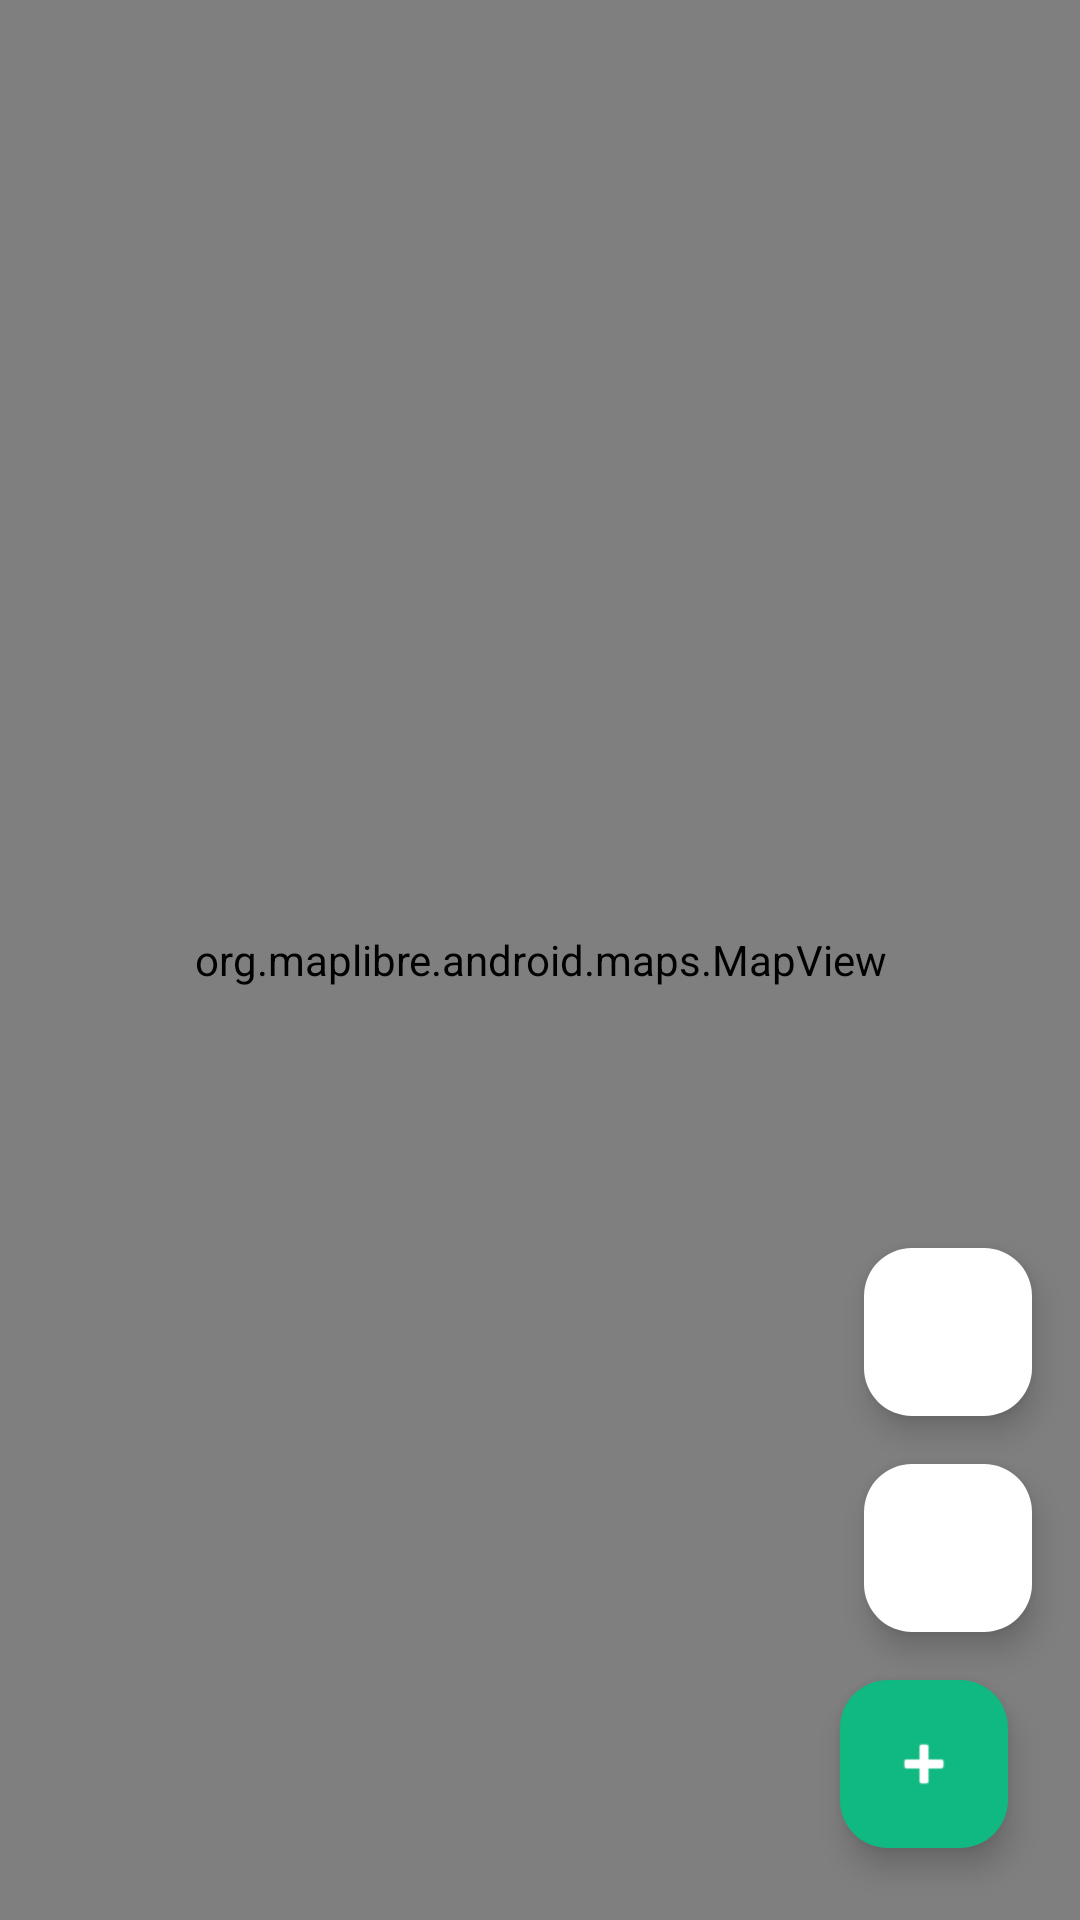

Where to tap for icons on this 1080 x 1920 app screen, as point (x, y):
Nova Denúncia: point (924, 1764)
